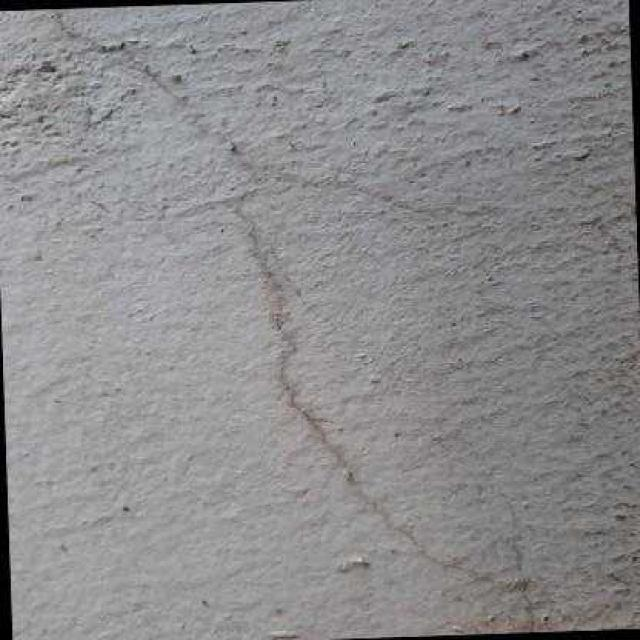D00: (48, 17, 539, 633)
